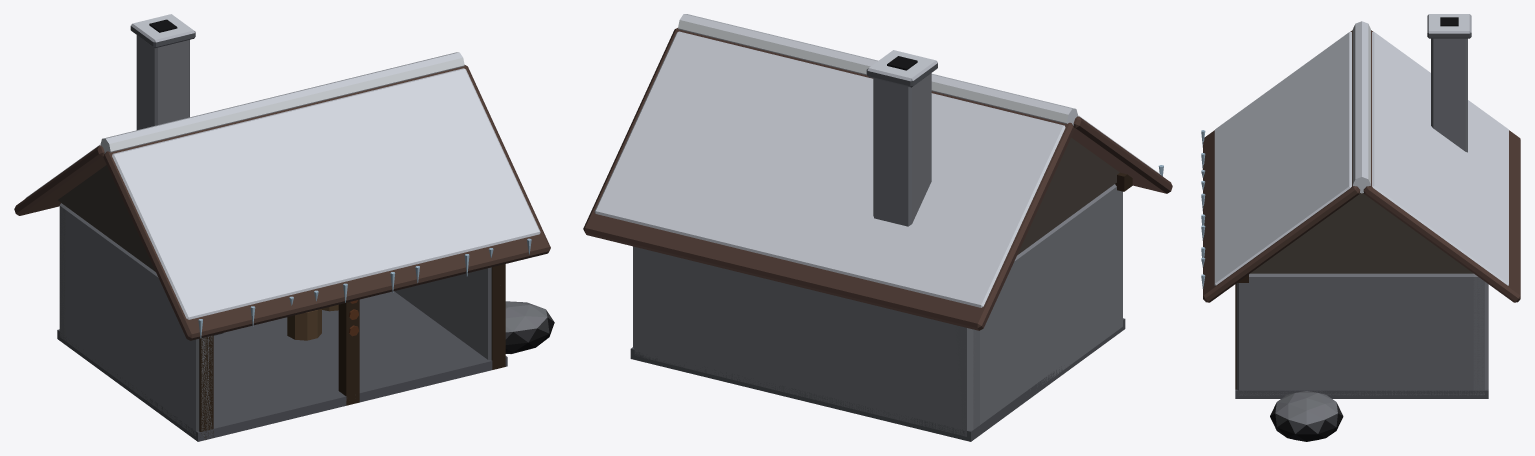
The model's file is village_smithy.glb.
3 views of the same model, side by side, from view 1: azimuth 30°, elevation 25°; view 2: azimuth 150°, elevation 25°; view 3: azimuth 270°, elevation 25° (orthographic). The views are drawn at different scales.
Parts seen in each view (by area): view 1: village_smithy; view 2: village_smithy; view 3: village_smithy.
Boxes of the visible parts, left/top/right/bottom form: village_smithy: left=14, top=14, right=554, bottom=441; village_smithy: left=583, top=14, right=1172, bottom=441; village_smithy: left=1201, top=14, right=1520, bottom=441.
Size of the model in its own units: 9.41 by 7.12 by 6.94.
